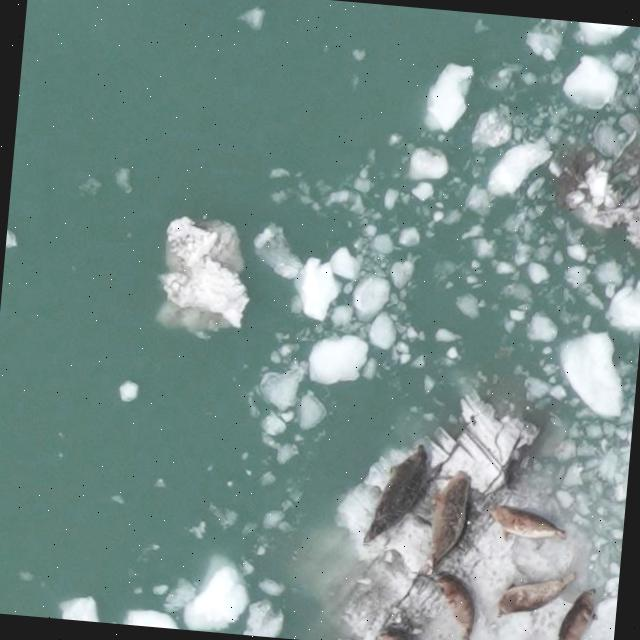seal: (361, 437, 434, 556), (419, 467, 471, 580), (488, 567, 581, 623), (549, 582, 610, 640), (430, 568, 477, 640), (489, 503, 566, 544)
